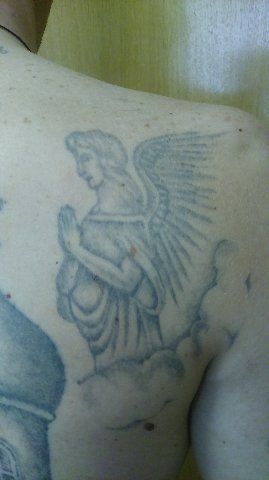tatu1_angel: (48, 128, 224, 374)
